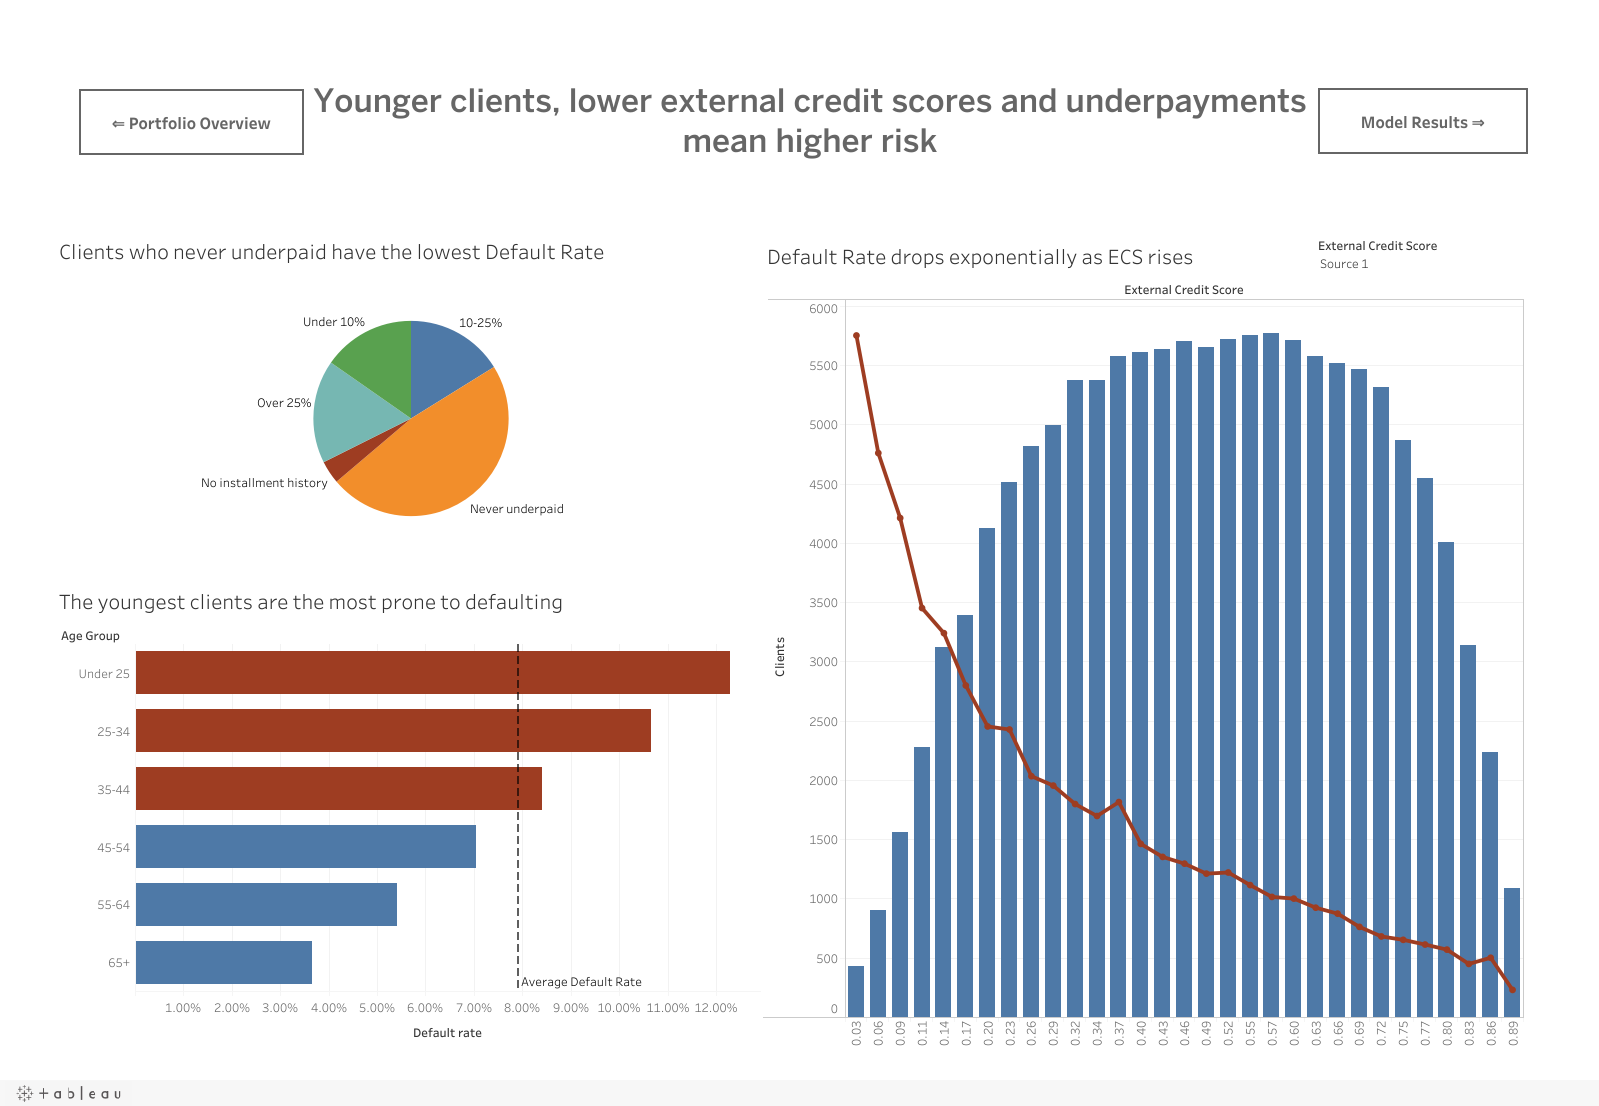

The page's visual inventory and layout, read from the dashboard file:
{"tool":"tableau","page":{"name":"Risk drivers","canvas":[1000,1000],"units":"permille","ordinal":2},"visuals":[{"type":"title","box":[191.7,30.6,628.9,162.2]},{"type":"dashboard-object","box":[823.8,81.1,131.1,61.1]},{"type":"dashboard-object","box":[49.5,82.3,140.4,61.1]},{"type":"worksheet","title":"Defaults by Underpayment Group","mark":"Pie","box":[34.6,213.5,444.7,308.2]},{"type":"parameter","param":"[Parameters].[Parameter 0183404291637248]","box":[823.8,217.4,128,56.4]},{"type":"worksheet","title":"ECS distribution + default rate","mark":"Automatic","rows":["Calculation_0415400462368771","Calculation_0234805708419072"],"cols":["Ext Source (bin)"],"box":[476.8,218.6,475.6,752.1]},{"type":"worksheet","title":"Default Rate by Age Group","mark":"Automatic","rows":["age_group"],"cols":["Calculation_0234805708419072"],"box":[34.6,537.7,440.3,432.7]}]}

Visuals, with their boxes on the dashboard's canvas, which has no fixed pixel size, in thousandths of its width and height (x1, y1, x2, y2). These are canvas units, not pixel positions in the 1599x1106 screenshot, which may show the page scaled, cropped or inside an application window:
title: box(192, 31, 821, 193)
dashboard-object: box(824, 81, 955, 142)
dashboard-object: box(50, 82, 190, 143)
"Defaults by Underpayment Group" worksheet (Pie marks): box(35, 214, 479, 522)
parameter: box(824, 217, 952, 274)
"ECS distribution + default rate" worksheet: box(477, 219, 952, 971)
"Default Rate by Age Group" worksheet: box(35, 538, 475, 970)
